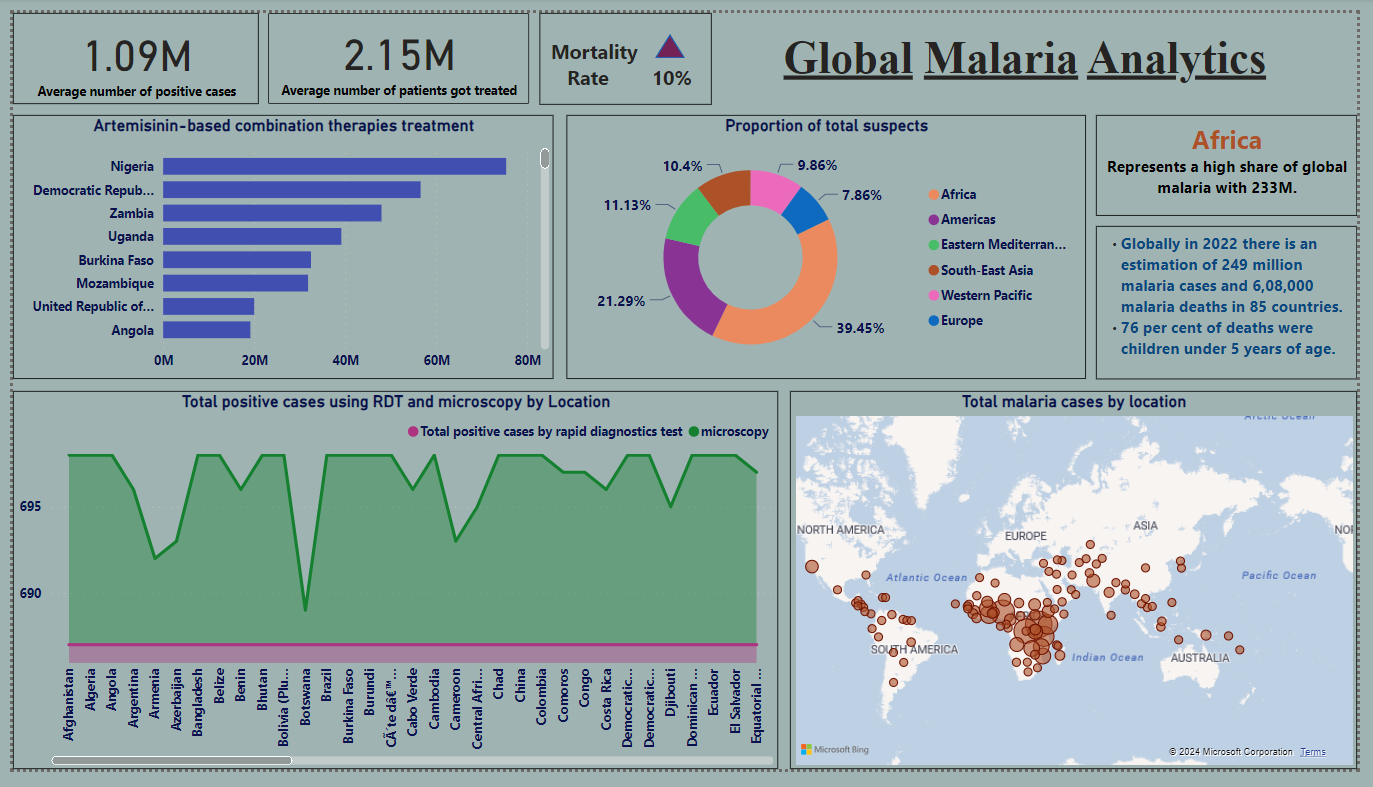

Layout of this report page (visuals, bound fields, positions):
{"tool":"powerbi","page":{"name":"Dashboard","canvas":[1280,720],"ordinal":3},"visuals":[{"type":"stackedAreaChart","title":"Total positive cases using RDT and microscopy by Location","fields":{"Category":["positive cases by microscopy.Location"],"Y":["Count(positive cases by rapid diagnostics test.FactValueNumeric)","Count(positive cases by microscopy.FactValueNumeric)"]},"box":[0,360,728.6,360],"z":0},{"type":"card","fields":{"Values":["Avg(suspects by rapid diagnostics test.suspects by rapid diagnostics test)"]},"box":[212,216,208,87],"z":1000},{"type":"card","fields":{"Values":["Avg(positive cases by rapid diagnostics test.positive cases by RDT)"]},"box":[0,0,233.7,86.5],"z":2000},{"type":"donutChart","title":"Proportion of total suspects","fields":{"Category":["suspected malaria cases.ParentLocation"],"Y":["Count(suspected malaria cases.FactValueNumeric)"]},"box":[526.8,97.3,494.4,251.3],"z":3000},{"type":"textbox","box":[1031.4,202.9,248.6,145.7],"z":4000},{"type":"map","title":"Total malaria cases by location","fields":{"Size":["Sum(x.Total number of malaria cases.FactValueNumeric)"],"Category":["x.Total number of malaria cases.Location"]},"box":[740,360,540,360],"z":5000},{"type":"textbox","box":[501.4,0,164.3,87.1],"z":7000},{"type":"shape","title":"10%","box":[611.4,20,28.6,22.9],"z":8000},{"type":"clusteredBarChart","title":"Artemisinin-based combination therapies treatment","fields":{"Y":["Sum(y.artemisinin-based combination therapies.FactValueNumeric)"],"Category":["y.artemisinin-based combination therapies.Location"]},"box":[0,97.3,514.7,251.3],"z":9000},{"type":"textbox","box":[1031.4,97.1,248.6,95.7],"z":10000},{"type":"textbox","box":[728.1,13.5,516,64.8],"z":11000},{"type":"card","fields":{"Values":["Avg(y.artemisinin-based combination therapies.FactValueNumeric)"]},"box":[243.2,0,248.6,86.5],"z":17000}]}

Visuals, with their boxes in screenshot pixels (x1, y1, x2, y2), scaled from the page's 1280x720 canvas onto the 1373x787 screenshot:
"Total positive cases using RDT and microscopy by Location" stackedAreaChart: [0,393,782,786]
card - Avg(suspects by rapid diagnostics test.suspects by rapid diagnostics test): [227,236,451,331]
card - Avg(positive cases by rapid diagnostics test.positive cases by RDT): [0,0,251,95]
"Proportion of total suspects" donutChart: [565,106,1095,381]
textbox: [1106,222,1372,381]
"Total malaria cases by location" map: [794,393,1372,786]
textbox: [538,0,714,95]
"10%" shape: [656,22,686,47]
"Artemisinin-based combination therapies treatment" clusteredBarChart: [0,106,552,381]
textbox: [1106,106,1372,211]
textbox: [781,15,1334,86]
card - Avg(y.artemisinin-based combination therapies.FactValueNumeric): [261,0,528,95]
